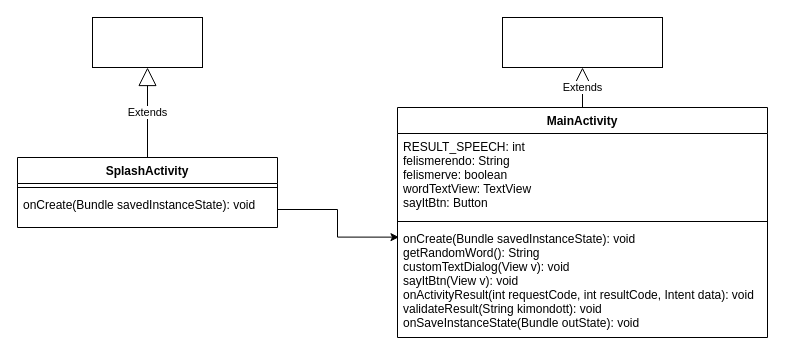
The diagram is 785 pixels wide and 358 high, and some of its shapes have lost their labels. The shapes that lost their labels are listed below. From the top down, each one's box as (x1, y1, x2, y2) in pixels, then its label:
(92, 16, 202, 68): Activity
(502, 16, 662, 68): AppCompatActivity
